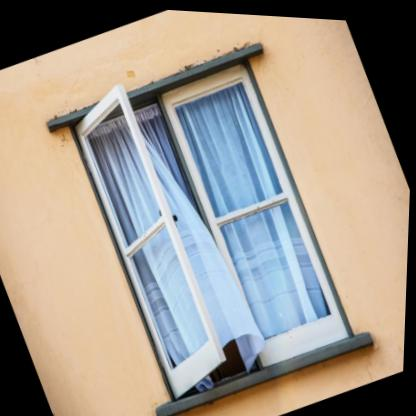Window: (153, 58, 359, 372), (68, 106, 235, 386)
